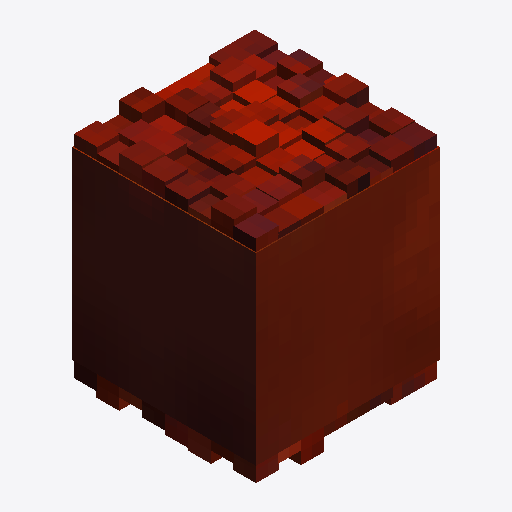
A Minecraft block model of 129 cuboids, rendered isometrically (azimuth 45°, elevation 35.3°) with the resource pack's own textures.
Visible parts, largest first — main, element 37, element 61, element 10, element 9, element 42, element 5, element 41, element 21, element 13, element 34, element 65 (+28 smaller).
Boxes of the visible parts, box(x1,y1,x2,y2) form: main: box(72, 146, 439, 465); element 37: box(233, 119, 278, 159); element 61: box(119, 87, 164, 123); element 10: box(211, 193, 256, 237); element 9: box(233, 213, 278, 251); element 42: box(119, 140, 164, 185); element 5: box(325, 159, 369, 198); element 41: box(142, 156, 187, 198); element 21: box(323, 73, 368, 107); element 13: box(279, 154, 324, 192); element 34: box(165, 173, 209, 211); element 65: box(74, 121, 118, 159).
Bounding box in the file's own units: 16 × 20.6 × 16.